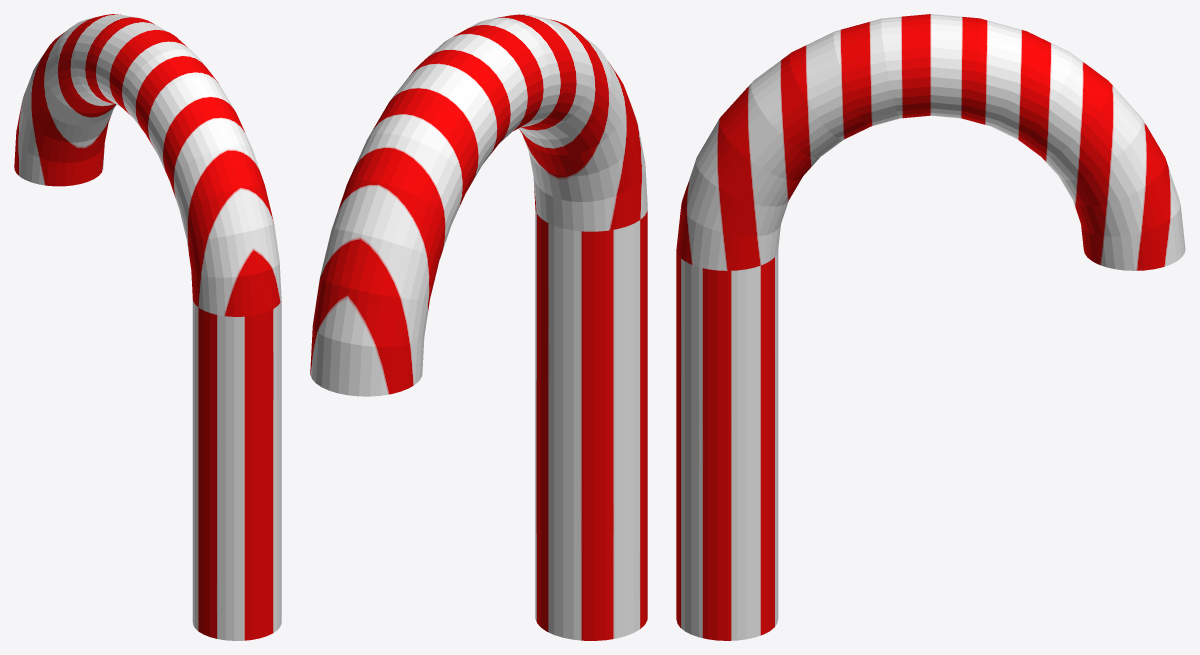
File: candycane.obj
3 renders of one model, left to right at view 1: azimuth 30°, elevation 25°; view 2: azimuth 150°, elevation 25°; view 3: azimuth 270°, elevation 25°, orthographic. The views are drawn at different scales.
Visible parts, largest first — view 1: Cylinder.001_Cylinder.003; view 2: Cylinder.001_Cylinder.003; view 3: Cylinder.001_Cylinder.003.
Part boxes in pixels (left/top/right/bottom): Cylinder.001_Cylinder.003: left=14, top=14, right=281, bottom=640; Cylinder.001_Cylinder.003: left=310, top=14, right=647, bottom=640; Cylinder.001_Cylinder.003: left=676, top=14, right=1185, bottom=640.
Bounding box in the file's own units: 1 × 6.51 × 5.
Materials: 1 (1 with a texture image).
